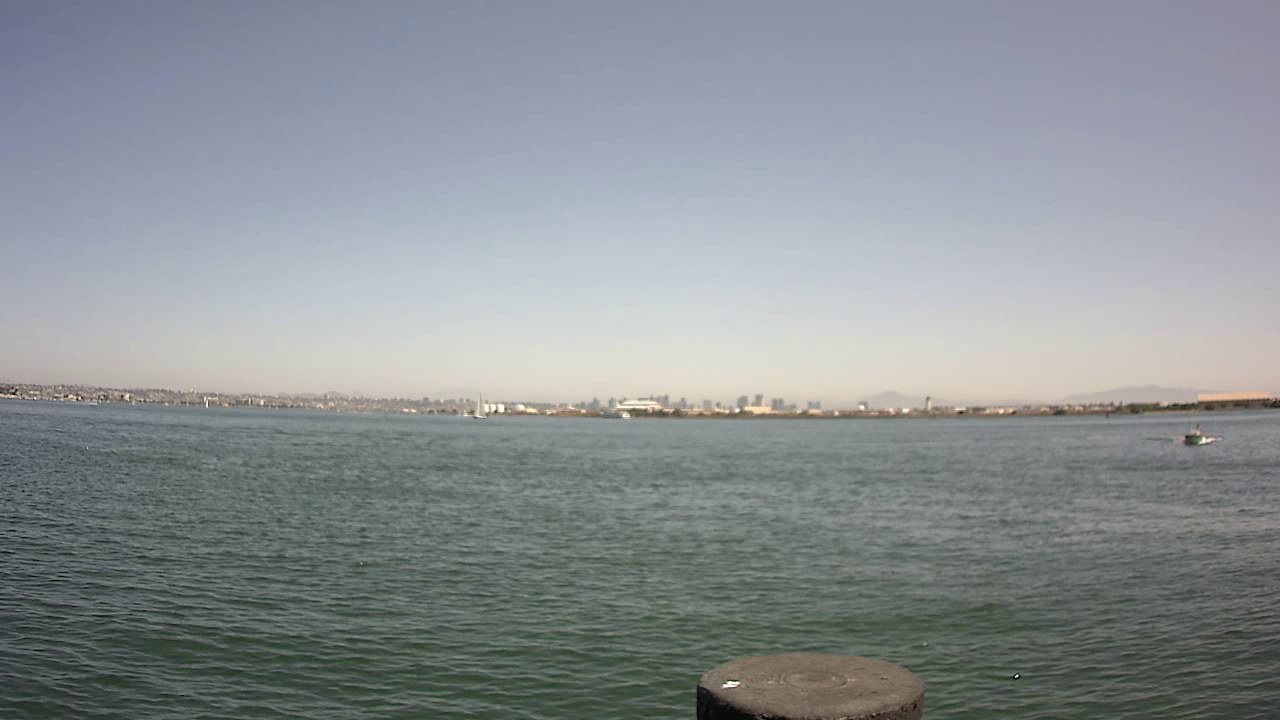target: (1167, 420, 1224, 453)
